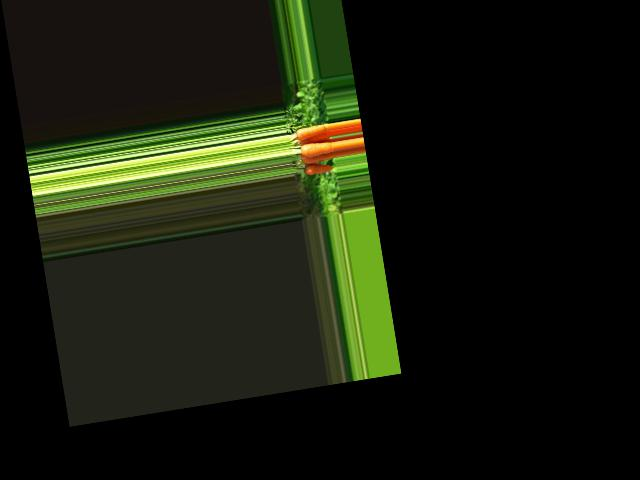carrot: (302, 158, 338, 178)
